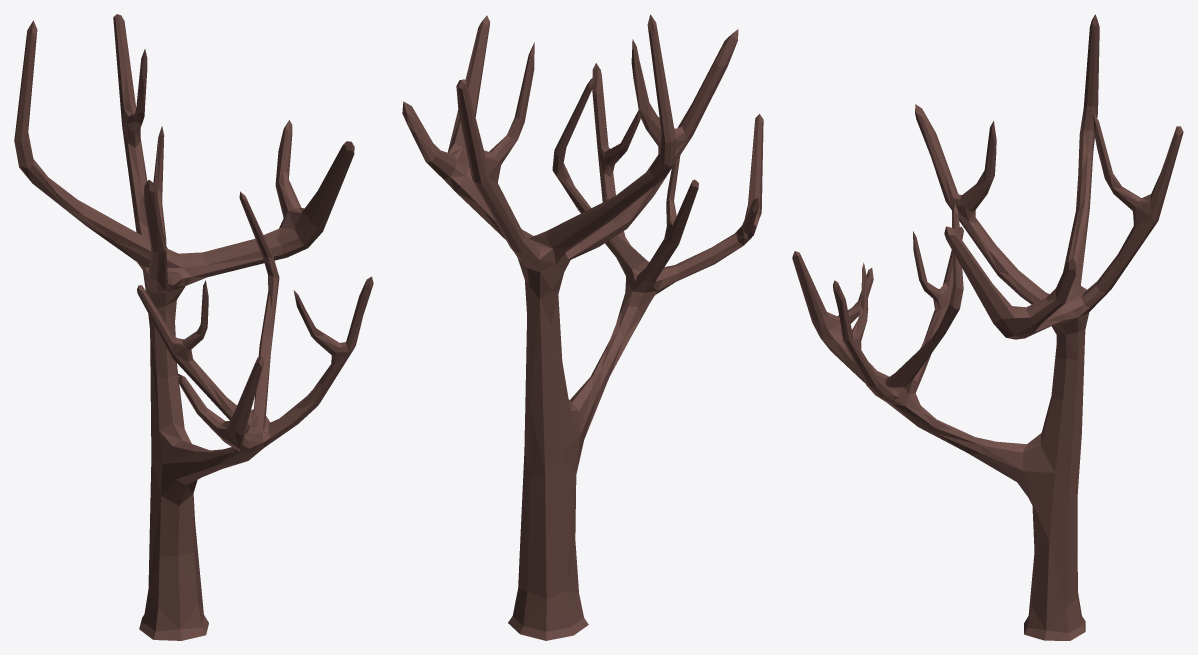
The model's file is CommonTree_Dead_2.lod1.glb.
3 views of the same model, side by side, from view 1: azimuth 30°, elevation 25°; view 2: azimuth 150°, elevation 25°; view 3: azimuth 270°, elevation 25° (orthographic). The views are drawn at different scales.
Visible parts, largest first — view 1: CommonTree_Dead_2; view 2: CommonTree_Dead_2; view 3: CommonTree_Dead_2.
Part boxes in pixels (x1,y1,x2,y2): CommonTree_Dead_2: [14, 14, 373, 640]; CommonTree_Dead_2: [402, 14, 763, 640]; CommonTree_Dead_2: [792, 14, 1183, 640].
Size of the model in its own units: 1.33 by 2.96 by 1.87.
